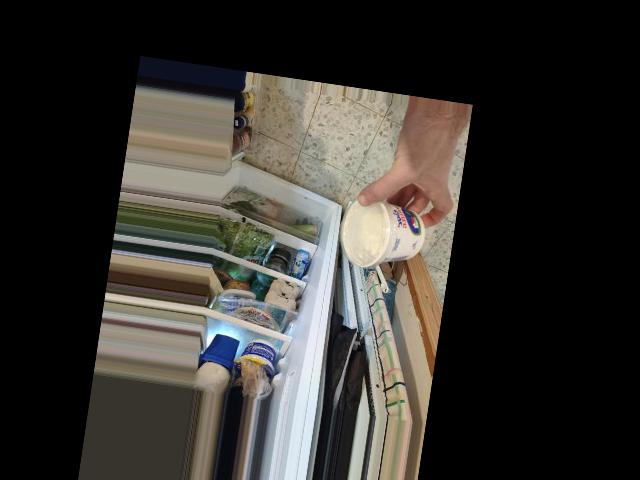cotage: (338, 186, 434, 274)
